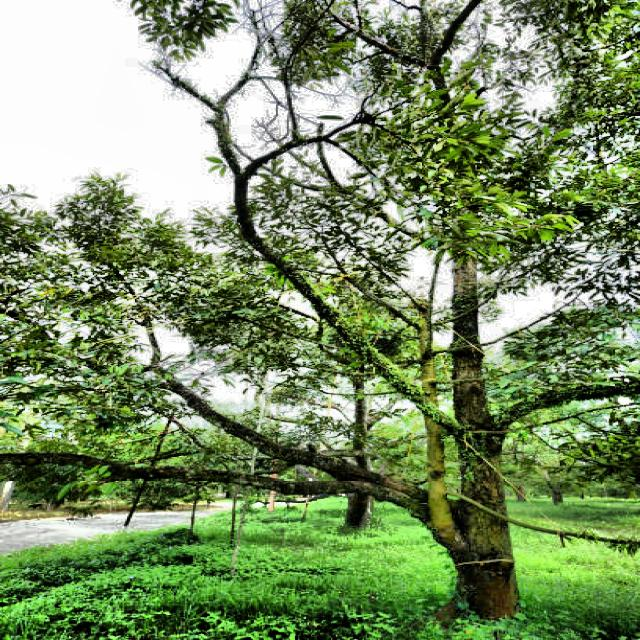arvore: (386, 238, 552, 624)
